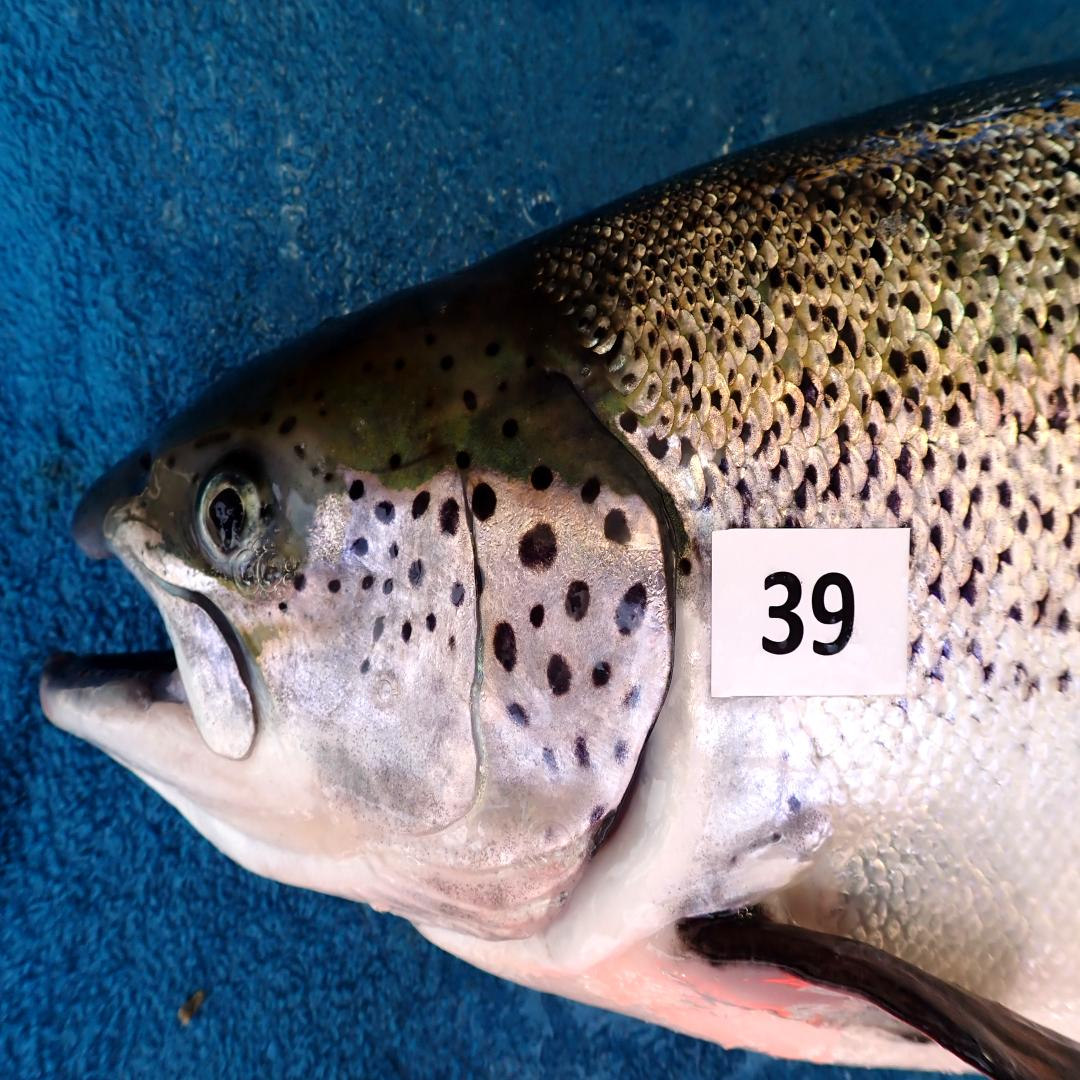roi: (256, 466, 676, 949)
